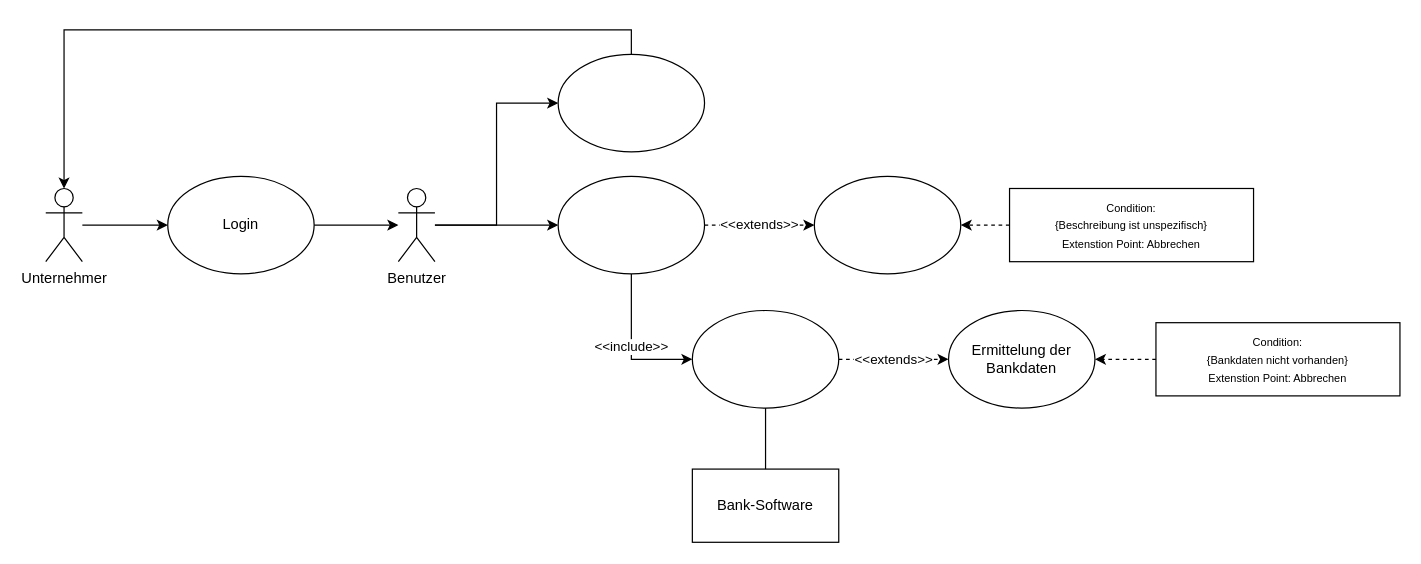
Image size: 1421x564. Some labels were removed from this diagram. The centre of each missing label's shape, as x and y in pixels:
"Abbuchung vom Unternehmer Bankkonto" goes at point (765, 358).
"Check der Beschreibung des Jobangebots" goes at point (887, 224).
"Logout" goes at point (631, 102).
"Stellenangebot erstellen" goes at point (631, 224).
